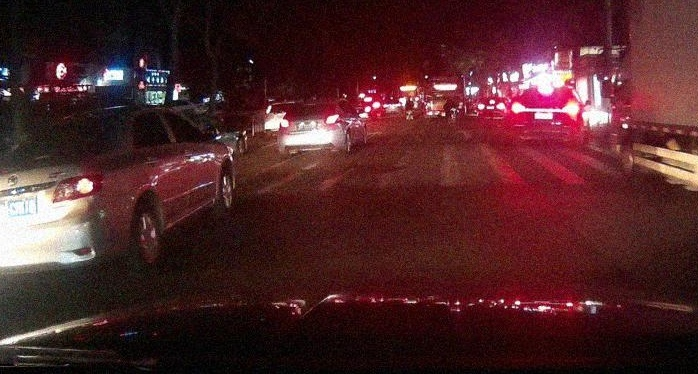L_light: (512, 103, 526, 114), (280, 119, 290, 127)
R_light: (563, 104, 579, 114), (325, 114, 339, 125)
T_light: (538, 87, 554, 94), (305, 104, 315, 106)
night-brake: (511, 86, 581, 148)
night-no: (278, 100, 342, 157)
